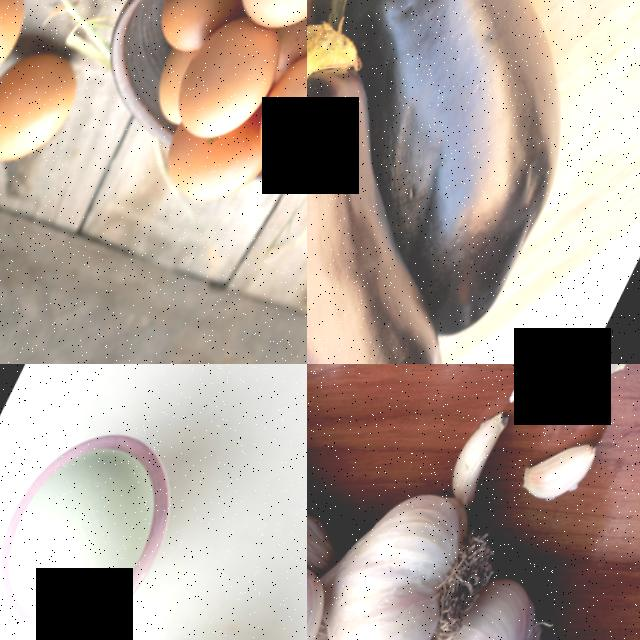egg_: (0, 429, 189, 640), (166, 13, 303, 159), (0, 44, 97, 182), (154, 126, 278, 227), (241, 48, 307, 198), (148, 0, 247, 63), (0, 0, 50, 99), (221, 0, 307, 54)
eggplant: (307, 1, 616, 364)
garlic: (307, 480, 500, 640), (363, 566, 582, 640), (516, 425, 611, 524), (440, 409, 519, 516), (512, 364, 638, 426)
